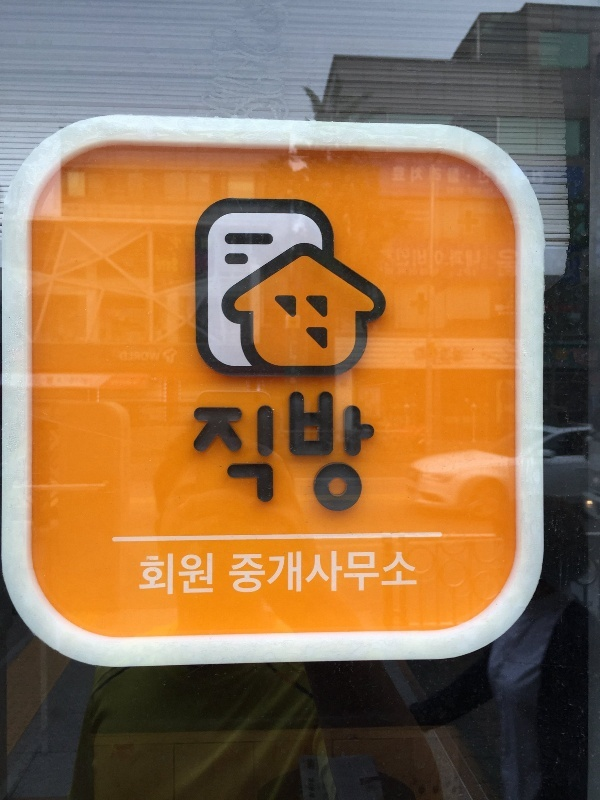text: (193, 389, 208, 520), (209, 389, 224, 520), (225, 389, 240, 520), (241, 389, 256, 520), (257, 389, 272, 520), (273, 389, 288, 520), (289, 389, 304, 520), (305, 389, 320, 520), (321, 389, 336, 520), (337, 389, 352, 520), (353, 389, 368, 520), (369, 389, 377, 520), (241, 549, 256, 599), (257, 549, 272, 599), (273, 549, 288, 599), (289, 549, 304, 599), (305, 549, 320, 599), (321, 549, 336, 599), (337, 549, 352, 599), (353, 549, 368, 599), (369, 549, 384, 599), (385, 549, 400, 599), (401, 549, 416, 599), (145, 552, 160, 596), (161, 552, 176, 596), (177, 552, 192, 596), (193, 552, 208, 596), (231, 549, 240, 599), (209, 552, 214, 596), (417, 549, 420, 599), (141, 552, 144, 596)
